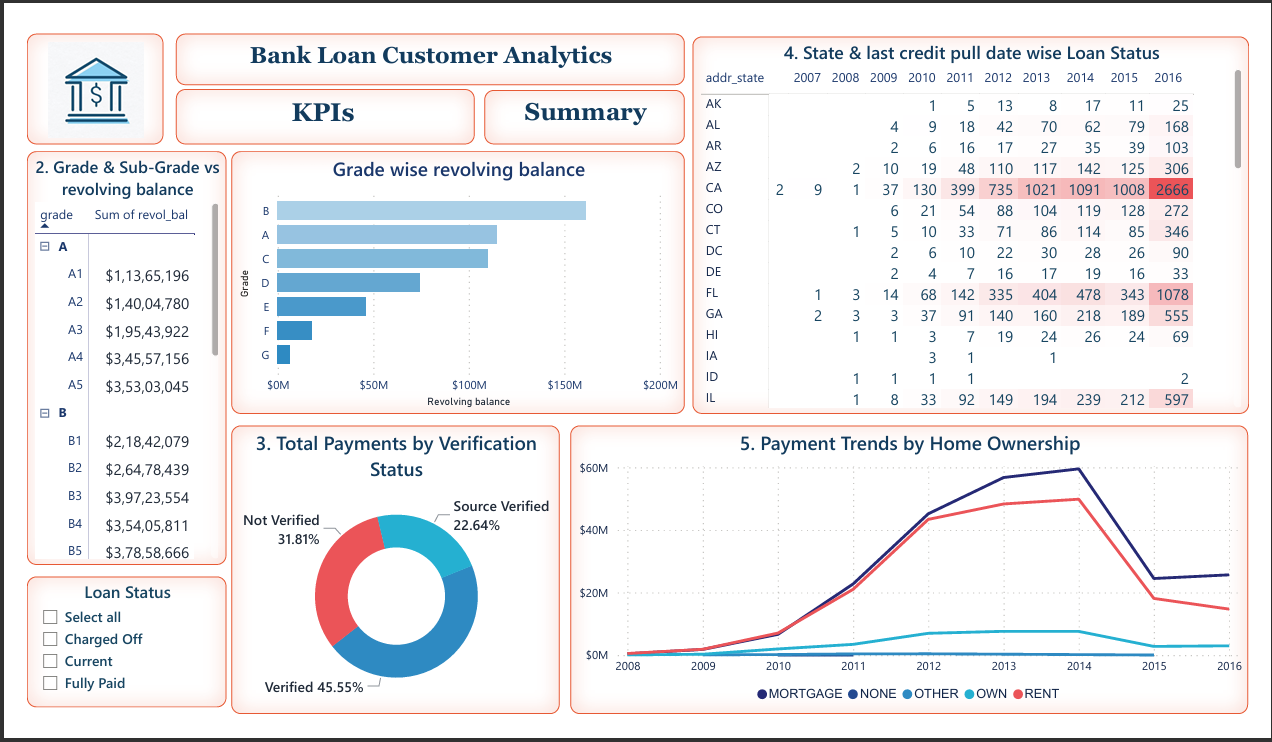

What the dashboard file says about the page in this screenshot:
{"tool":"powerbi","page":{"name":"KPIs","canvas":[1280,720],"ordinal":1},"visuals":[{"type":"actionButton","box":[478.5,66.8,210.3,56.8],"z":0},{"type":"textbox","box":[155.8,65.7,312.7,57.9],"z":1000},{"type":"donutChart","title":"3. Total Payments by Verification Status","fields":{"Category":["Finance_1.verification_status"],"Y":["Sum(Sheet1.total_pymnt)"]},"box":[213.7,418.4,343.9,301.6],"z":2000},{"type":"lineChart","title":"5. Payment Trends by Home Ownership","fields":{"Category":["Sheet1.last_pymnt_d.Variation.Date Hierarchy.Year"],"Y":["Sum(Sheet1.total_pymnt)"],"Series":["Finance_1.home_ownership"]},"box":[568.7,418.4,710,301.6],"z":3000},{"type":"slicer","title":"Loan Status","fields":{"Values":["Finance_1.loan_status"]},"box":[0,576.4,209.2,136.9],"z":4000},{"type":"pivotTable","title":"2. Grade & Sub-Grade vs revolving balance","fields":{"Rows":["Finance_1.grade","Finance_1.sub_grade"],"Values":["Sum(Sheet1.revol_bal)"]},"box":[0,131.3,209.2,432.9],"z":5000},{"type":"barChart","title":"Grade wise revolving balance","fields":{"Category":["Finance_1.grade"],"Y":["Sum(Sheet1.revol_bal)"]},"box":[213.7,131.3,475.2,274.9],"z":6000},{"type":"pivotTable","title":"4. State & last credit pull date wise Loan Status","fields":{"Rows":["Finance_1.addr_state"],"Columns":["Sheet1.last_credit_pull_d.Variation.Date Hierarchy.Year"],"Values":["CountNonNull(Finance_1.loan_amnt)"]},"box":[696.6,11.1,583.1,395.1],"z":7000},{"type":"image","box":[0,8.1,142.9,116.2],"z":8000},{"type":"textbox","box":[155.8,7.8,533,54.5],"z":9000}]}

Visuals, with their boxes on the page's 1280x720 design canvas (x1, y1, x2, y2). These are canvas units, not pixel positions in the 1272x742 screenshot, which may show the page scaled, cropped or inside an application window:
actionButton: 478:67:689:124
textbox: 156:66:468:124
"3. Total Payments by Verification Status" donutChart: 214:418:558:720
"5. Payment Trends by Home Ownership" lineChart: 569:418:1279:720
"Loan Status" slicer: 0:576:209:713
"2. Grade & Sub-Grade vs revolving balance" pivotTable: 0:131:209:564
"Grade wise revolving balance" barChart: 214:131:689:406
"4. State & last credit pull date wise Loan Status" pivotTable: 697:11:1280:406
image: 0:8:143:124
textbox: 156:8:689:62
